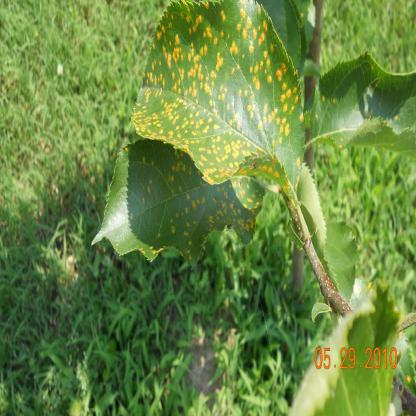apple rust leaf: (124, 1, 310, 243), (92, 114, 271, 310)
